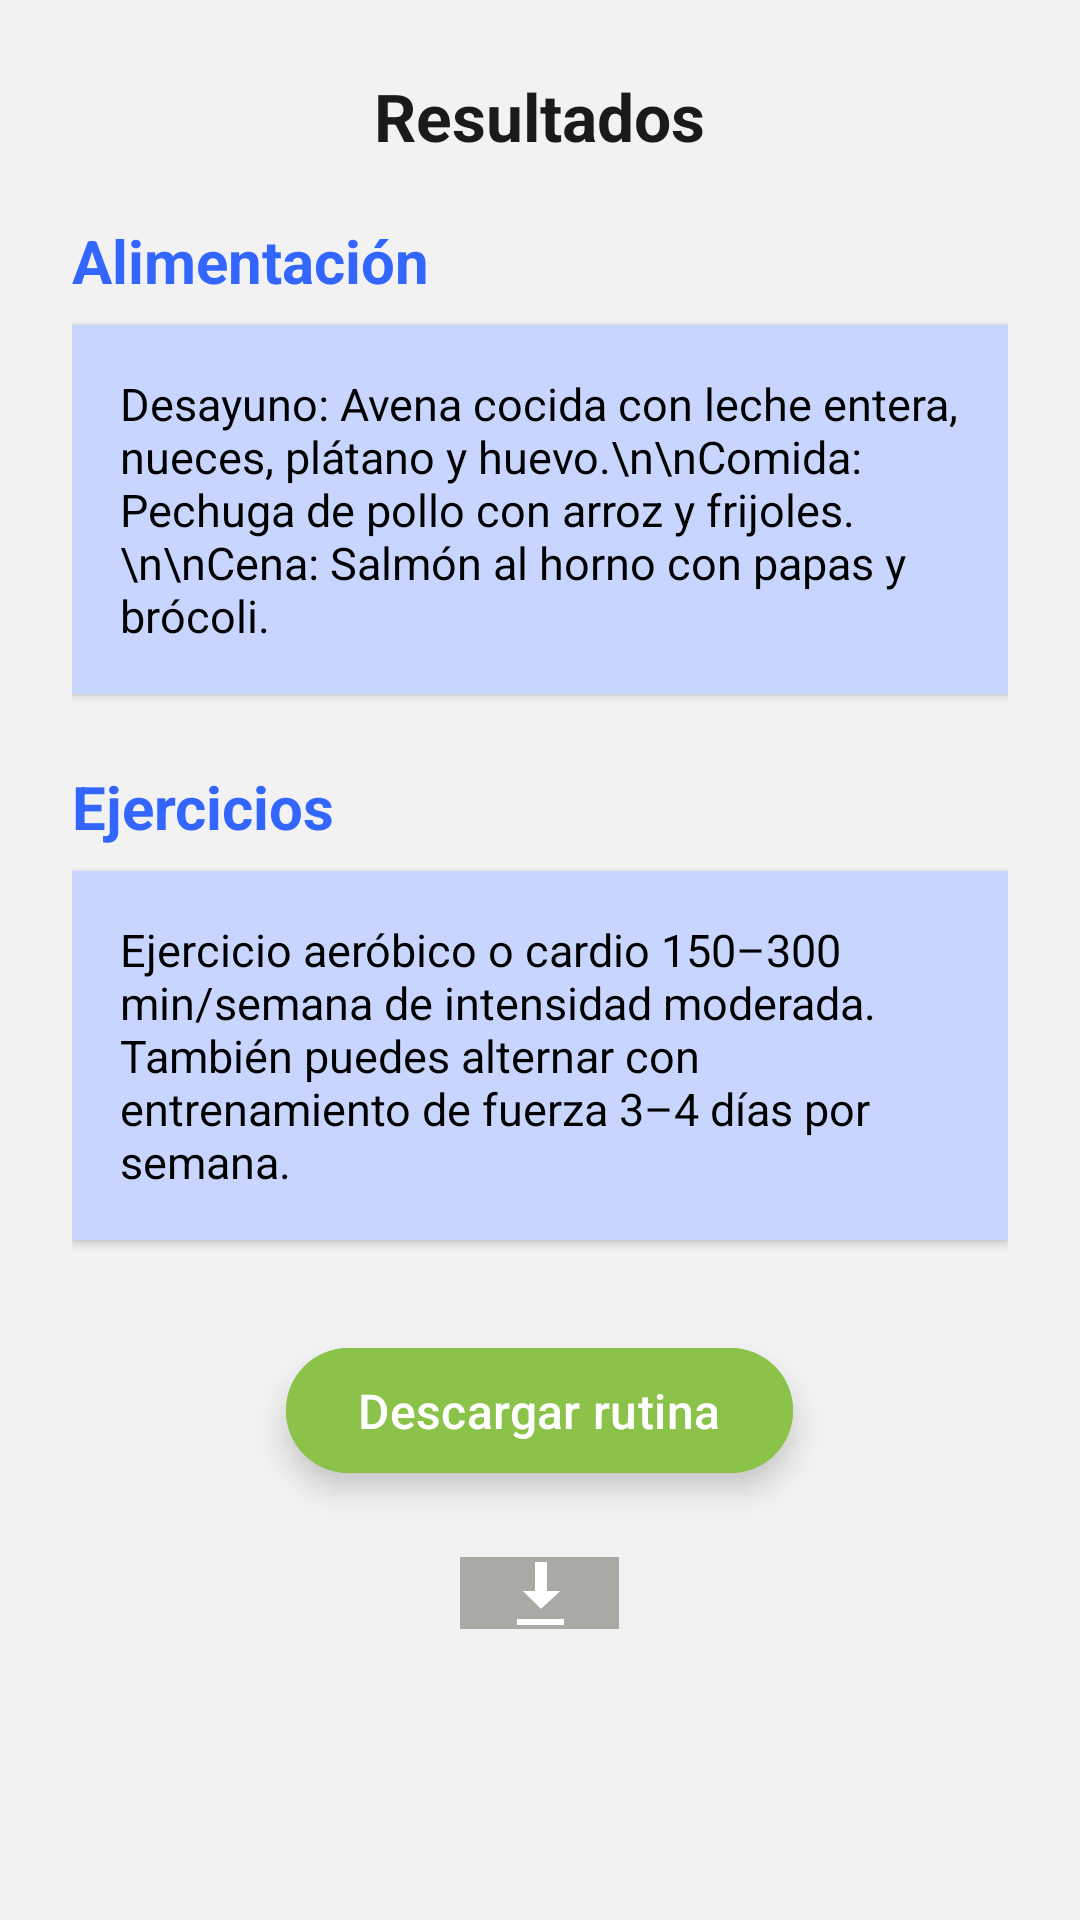

Screen size 1080w x 1920h. Icon name, then its center in pixels as (x,y):
download: (539,1593)
